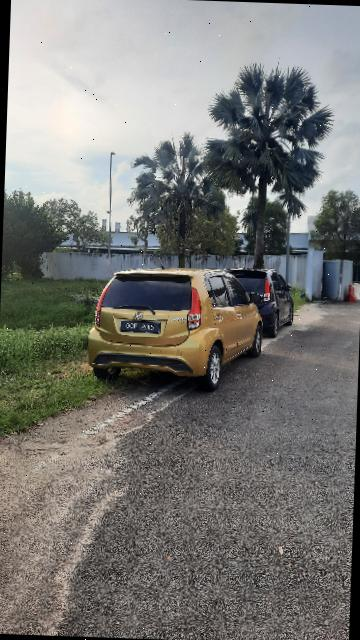License_Plate: (121, 320, 162, 336)
car: (86, 262, 270, 393), (224, 265, 305, 340)
